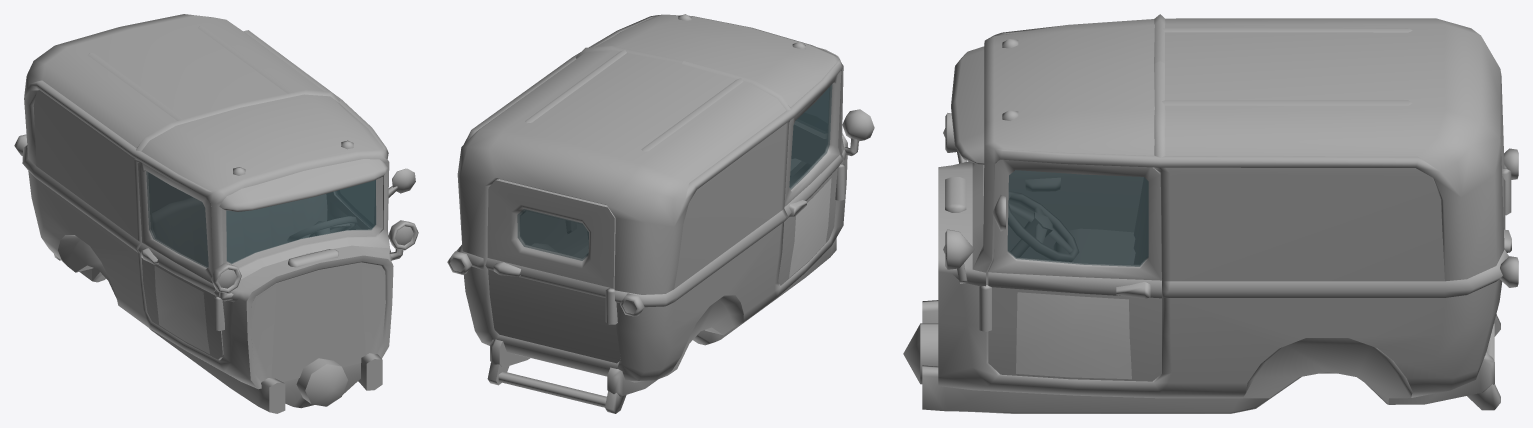
Rendered from Body_Delivery.fbx.
3 renders of one model, left to right at view 1: azimuth 30°, elevation 25°; view 2: azimuth 150°, elevation 25°; view 3: azimuth 270°, elevation 25°, orthographic. The views are drawn at different scales.
Parts seen in each view (by area): view 1: Delivery_Body_Mesh, Delivery_Body_Window_Mesh, Delivery_Door_Right_Mesh, Delivery_Door_Right_Window_Mesh, Delivery_Door_Right_Decal_Mesh, Delivery_Body_SideLights_Mesh, Delivery_Door_Left_Mesh, Delivery_Door_Left_Window_Mesh, Delivery_Body_SteerWheel_Mesh; view 2: Delivery_Body_Mesh, Delivery_Body_BackDoor_Mesh, Delivery_Door_Right_Mesh, Deuce_Delivery_Body_BackDoor3_Mesh, Delivery_Door_Right_Window_Mesh, Delivery_Door_Right_Decal_Mesh, Delivery_Body_SideLights_Mesh, Delivery_Body_Window_Mesh; view 3: Delivery_Body_Mesh, Delivery_Door_Left_Mesh, Delivery_Door_Left_Window_Mesh, Delivery_Door_Left_Decal_Mesh, Delivery_Door_Right_Mesh, Delivery_Body_SteerWheel_Mesh, Delivery_Body_SideLights_Mesh.
Part boxes in pixels (box(x1,y1,x2,y2)): Delivery_Body_Mesh: box(14, 14, 393, 413); Delivery_Body_Window_Mesh: box(226, 180, 376, 263); Delivery_Door_Right_Mesh: box(137, 161, 223, 359); Delivery_Door_Right_Window_Mesh: box(146, 171, 208, 267); Delivery_Door_Right_Decal_Mesh: box(154, 266, 209, 354); Delivery_Body_SideLights_Mesh: box(211, 220, 418, 301); Delivery_Door_Left_Mesh: box(326, 168, 415, 229); Delivery_Door_Left_Window_Mesh: box(337, 181, 374, 227); Delivery_Body_SteerWheel_Mesh: box(287, 216, 356, 242); Delivery_Body_Mesh: box(447, 14, 847, 413); Delivery_Body_BackDoor_Mesh: box(485, 179, 620, 363); Delivery_Door_Right_Mesh: box(778, 71, 842, 285); Deuce_Delivery_Body_BackDoor3_Mesh: box(517, 209, 588, 260); Delivery_Door_Right_Window_Mesh: box(789, 84, 832, 189); Delivery_Door_Right_Decal_Mesh: box(789, 178, 831, 277); Delivery_Body_SideLights_Mesh: box(842, 109, 874, 155); Delivery_Body_Window_Mesh: box(798, 88, 828, 130); Delivery_Body_Mesh: box(903, 14, 1518, 413); Delivery_Door_Left_Mesh: box(988, 159, 1161, 381); Delivery_Door_Left_Window_Mesh: box(1007, 170, 1148, 266); Delivery_Door_Left_Decal_Mesh: box(1016, 292, 1131, 379); Delivery_Door_Right_Mesh: box(1008, 170, 1143, 259); Delivery_Body_SteerWheel_Mesh: box(1008, 191, 1078, 261); Delivery_Body_SideLights_Mesh: box(943, 113, 974, 283).
Size of the model in its own units: 179 by 183 by 312.
